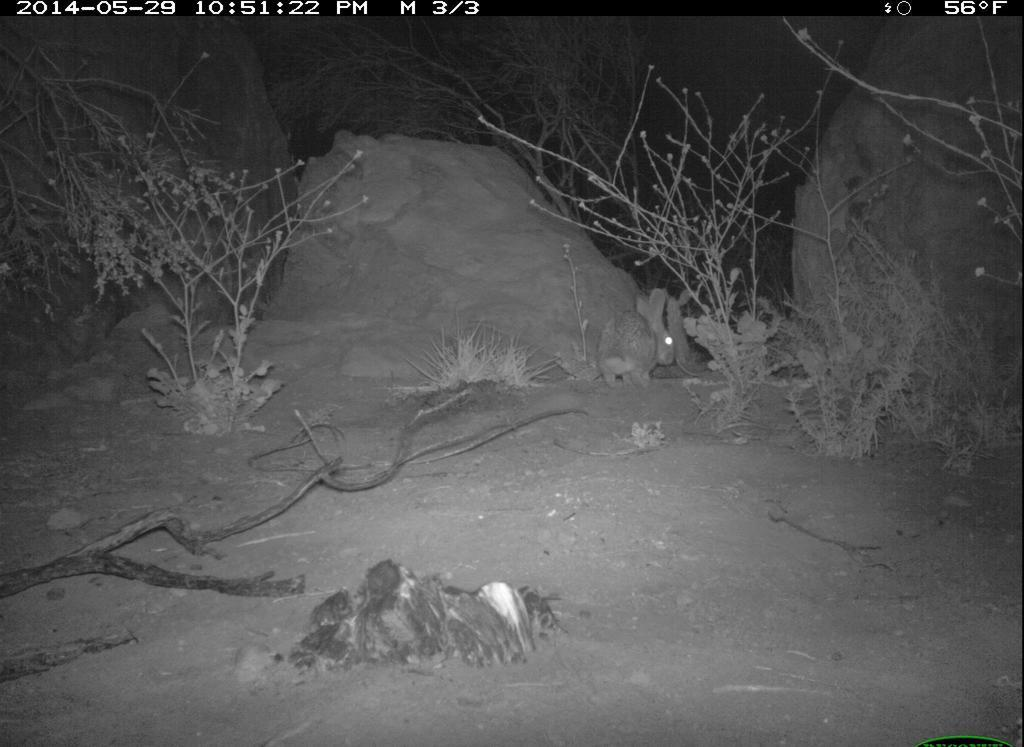rabbit: (597, 287, 681, 388)
